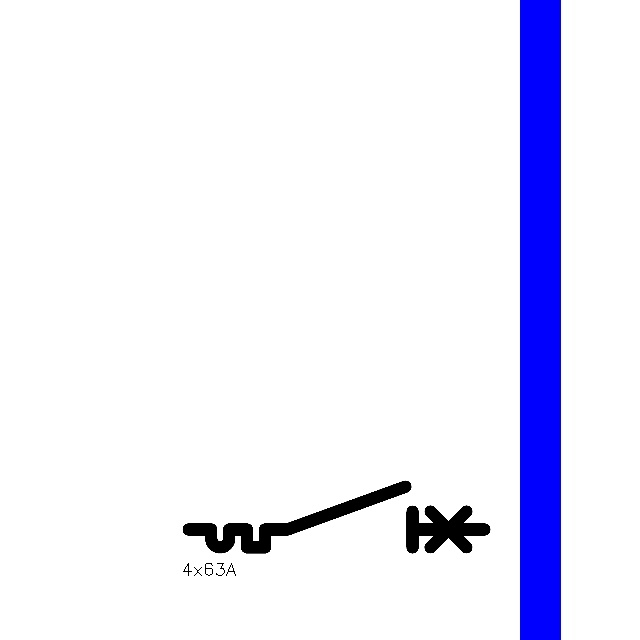interruptor_termomagnetico: (181, 479, 492, 555)
